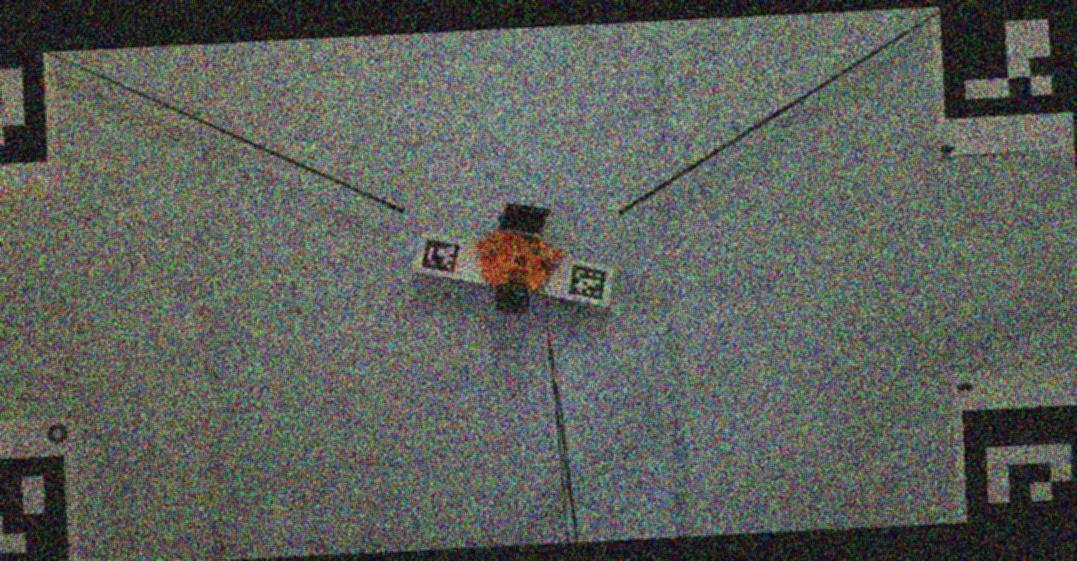robot: (476, 204, 560, 312)
